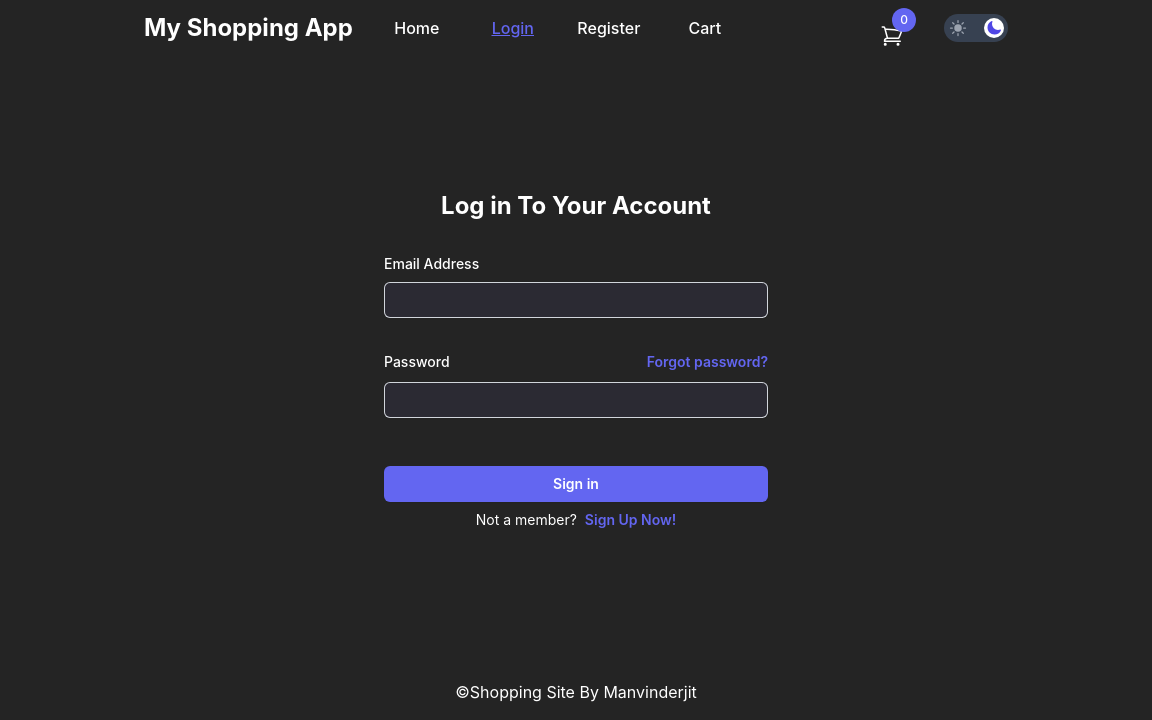
Test: should render Login error messages › should not submit form with userEmail entered but Password empty and render error messages
Expected: the password field labelled "Password" is empty, [384,382,768,418]
Expected: the button "Sign in" is shown, [384,466,768,502]
Type "email@abc.com" into the field labelled "Email Address" at (576, 300), box [384,282,768,318]
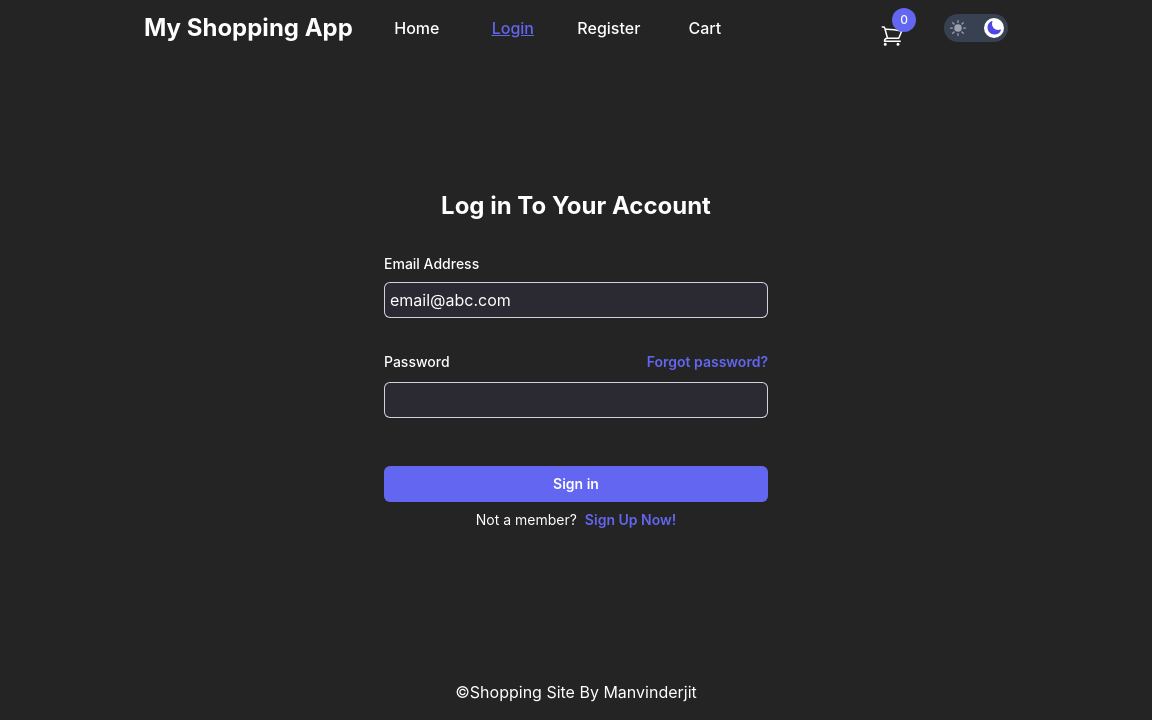
Click the button "Sign in" at (576, 484), box [384,466,768,502]
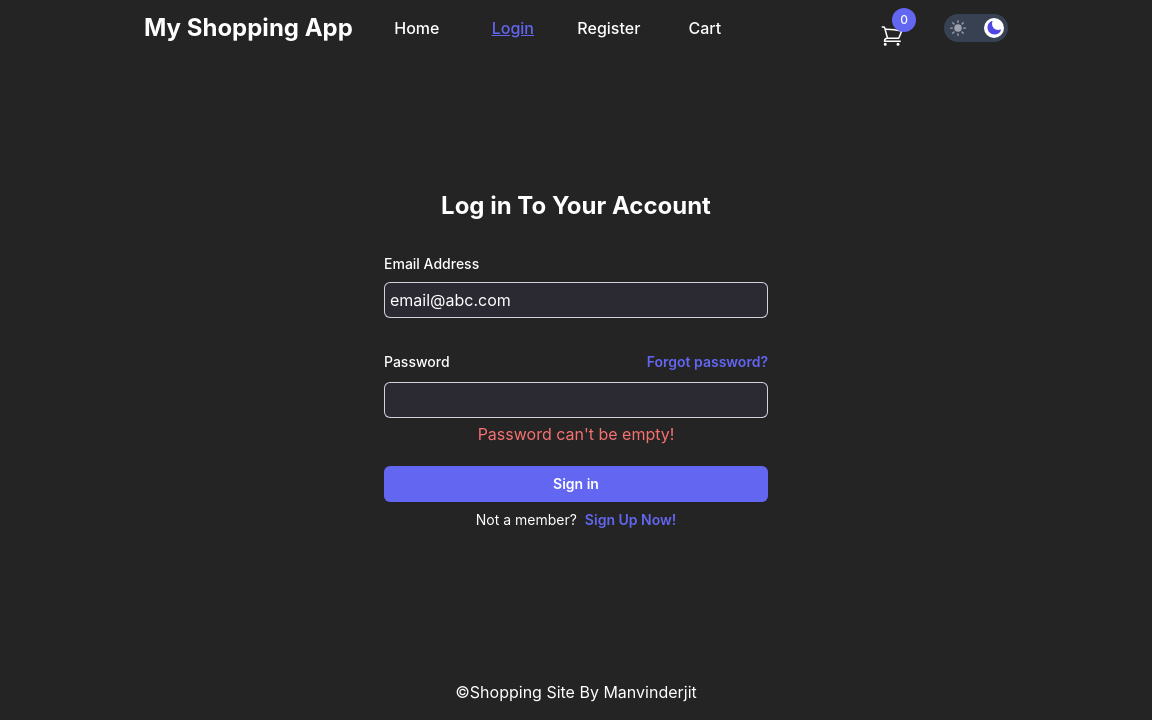
Expected: the password field labelled "Password" is empty, [384,382,768,418]
Result: the text "Password can't be empty!" is shown at [478,424,674,444]
